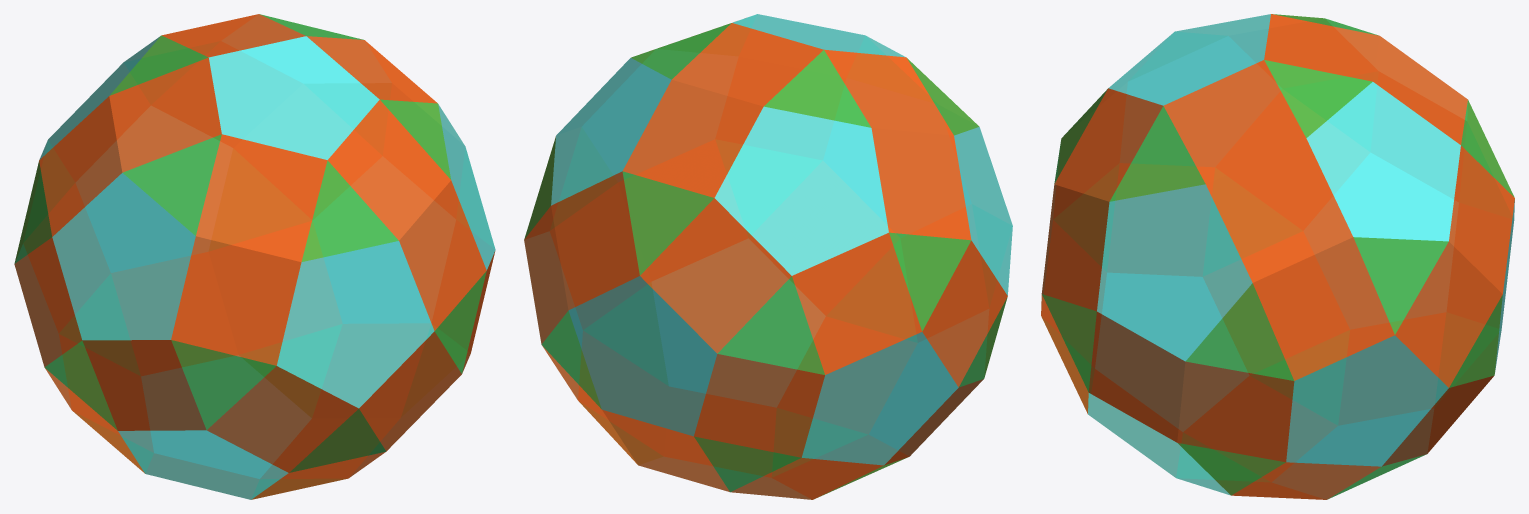
File: j74_metabigyrate_rhombicosidodecahedron.obj
3 renders of one model, left to right at view 1: azimuth 30°, elevation 25°; view 2: azimuth 150°, elevation 25°; view 3: azimuth 270°, elevation 25°, orthographic.
Size of the model in its own units: 1.96 by 1.98 by 1.91.
